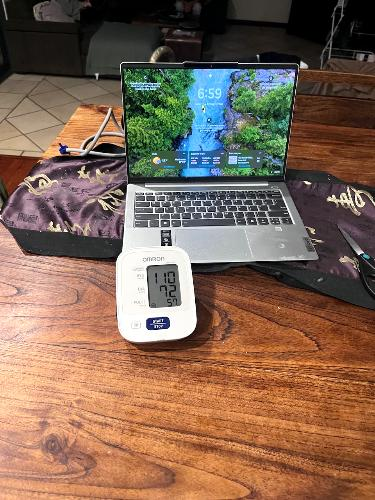bpm: (145, 262, 183, 309)
